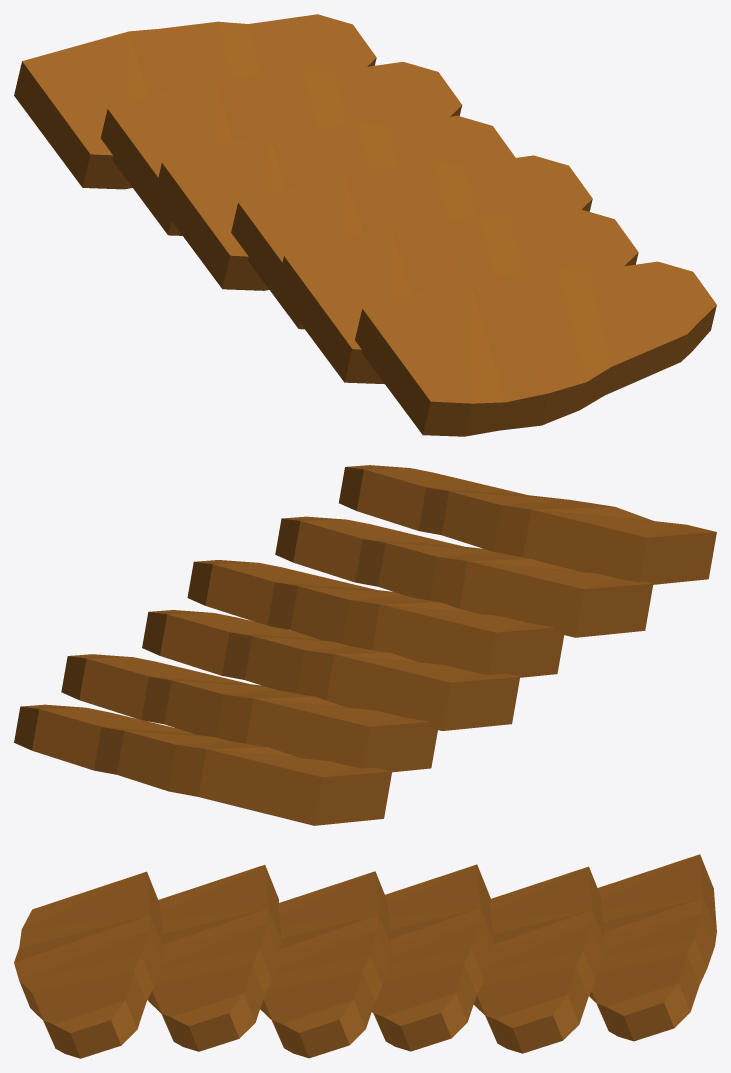
Rendered from cuttedChickenFilletManyWellDone.fbx.
The picture shows the model from 3 angles, top to bottom: view 1: azimuth 30°, elevation 25°; view 2: azimuth 150°, elevation 25°; view 3: azimuth 270°, elevation 25°; orthographic projection. The views are drawn at different scales.
Visible parts, largest first — view 1: Cylinder, Cylinder.001, Cylinder.005, Cylinder.004, Cylinder.003, Cylinder.002; view 2: Cylinder, Cylinder.005, Cylinder.001, Cylinder.003, Cylinder.002, Cylinder.004; view 3: Cylinder, Cylinder.001, Cylinder.004, Cylinder.002, Cylinder.005, Cylinder.003.
Boxes of the visible parts, x1,y1,x2,y2 form: Cylinder: [355, 261, 716, 436]; Cylinder.001: [276, 209, 638, 384]; Cylinder.005: [14, 14, 376, 189]; Cylinder.004: [100, 61, 462, 235]; Cylinder.003: [154, 115, 515, 290]; Cylinder.002: [231, 155, 592, 329]; Cylinder: [339, 465, 716, 584]; Cylinder.005: [14, 704, 391, 825]; Cylinder.001: [275, 516, 653, 637]; Cylinder.003: [142, 610, 520, 730]; Cylinder.002: [187, 560, 564, 677]; Cylinder.004: [61, 654, 437, 772]; Cylinder: [14, 871, 163, 1058]; Cylinder.001: [148, 865, 281, 1051]; Cylinder.004: [473, 866, 604, 1053]; Cylinder.002: [260, 871, 391, 1058]; Cylinder.005: [589, 854, 716, 1041]; Cylinder.003: [372, 864, 493, 1051].
Size of the model in its own units: 361 by 110 by 772.
